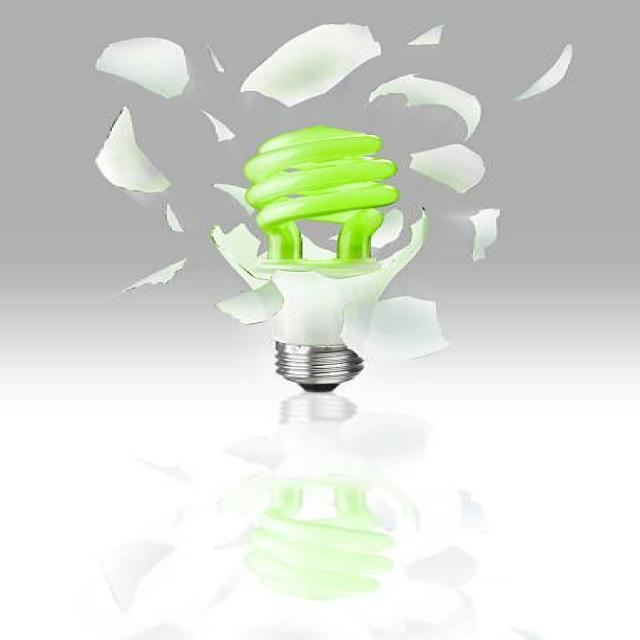electronic: (90, 20, 572, 392), (104, 393, 503, 638), (207, 124, 436, 391), (211, 393, 421, 600), (92, 36, 190, 100)
